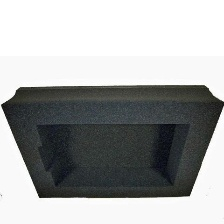foam_box: (0, 81, 224, 203)
